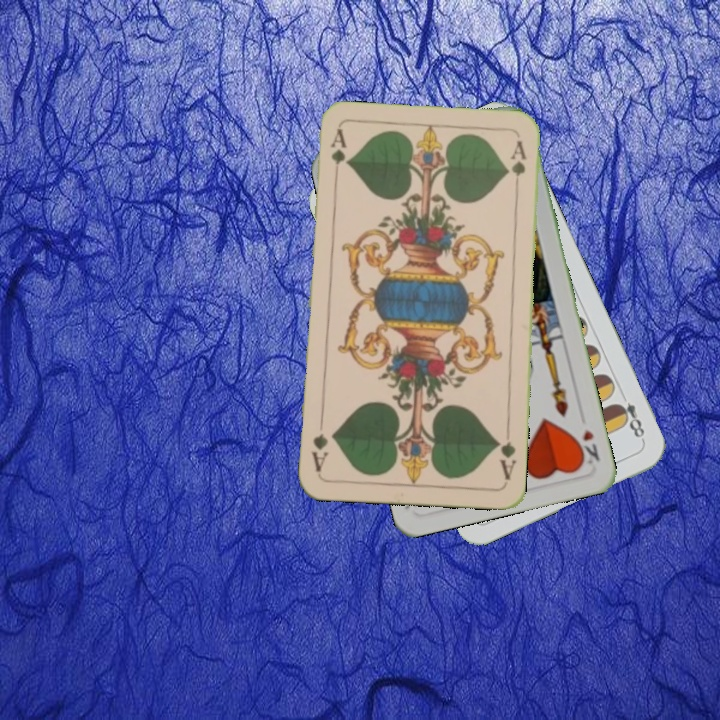E8: (611, 388, 648, 444)
GA: (492, 425, 519, 483), (327, 125, 349, 184)
HK: (572, 425, 602, 468)
